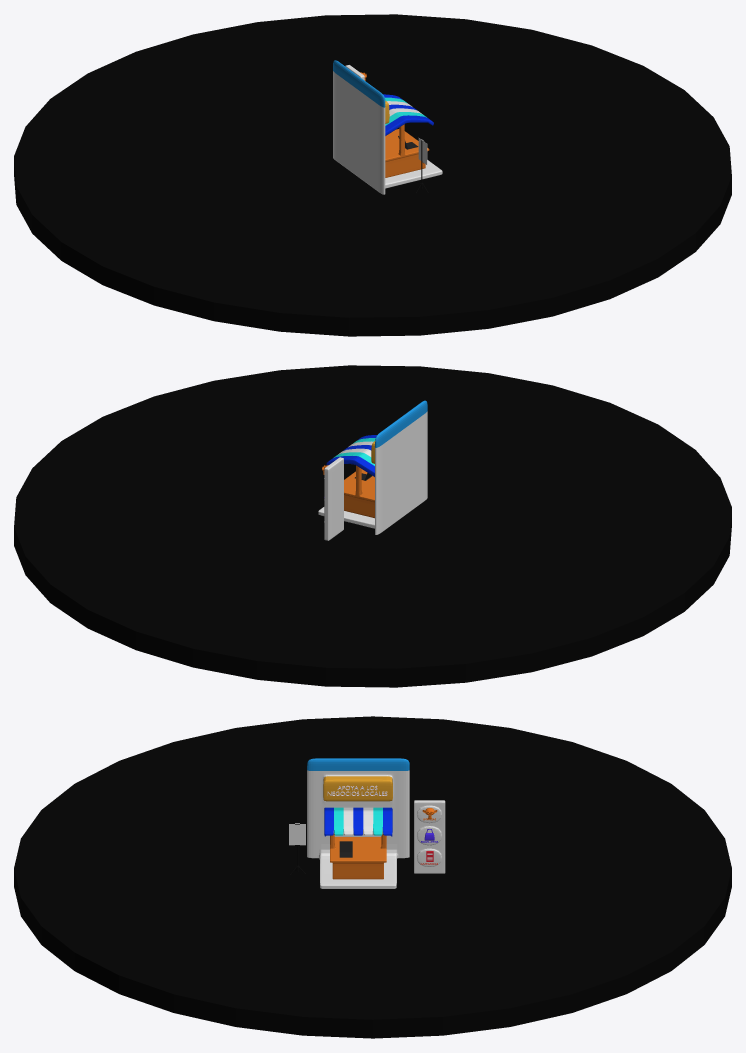
The model's file is fondos.glb.
The picture shows the model from 3 angles, top to bottom: view 1: azimuth 30°, elevation 25°; view 2: azimuth 150°, elevation 25°; view 3: azimuth 270°, elevation 25°; orthographic projection.
Parts seen in each view (by area): view 1: Circle.001, Plane, Cube, Plane.001; view 2: Circle.001, Plane, Cube.001, Cube, Plane.001; view 3: Circle.001, Plane, Cube, Cube.001, Plane.001.
Boxes of the visible parts, x1,y1,x2,y2 form: Circle.001: (14, 14, 731, 336); Plane: (333, 60, 442, 194); Cube: (385, 124, 429, 177); Plane.001: (383, 94, 433, 135); Circle.001: (14, 365, 731, 687); Plane: (318, 400, 427, 534); Cube.001: (324, 457, 343, 540); Cube: (344, 465, 374, 518); Plane.001: (326, 435, 376, 476); Circle.001: (14, 716, 731, 1038); Plane: (307, 758, 409, 888); Cube: (330, 831, 386, 879); Cube.001: (414, 800, 445, 873); Plane.001: (324, 807, 392, 836).
Bounding box in the file's own units: 16.47 × 2.99 × 16.47.
